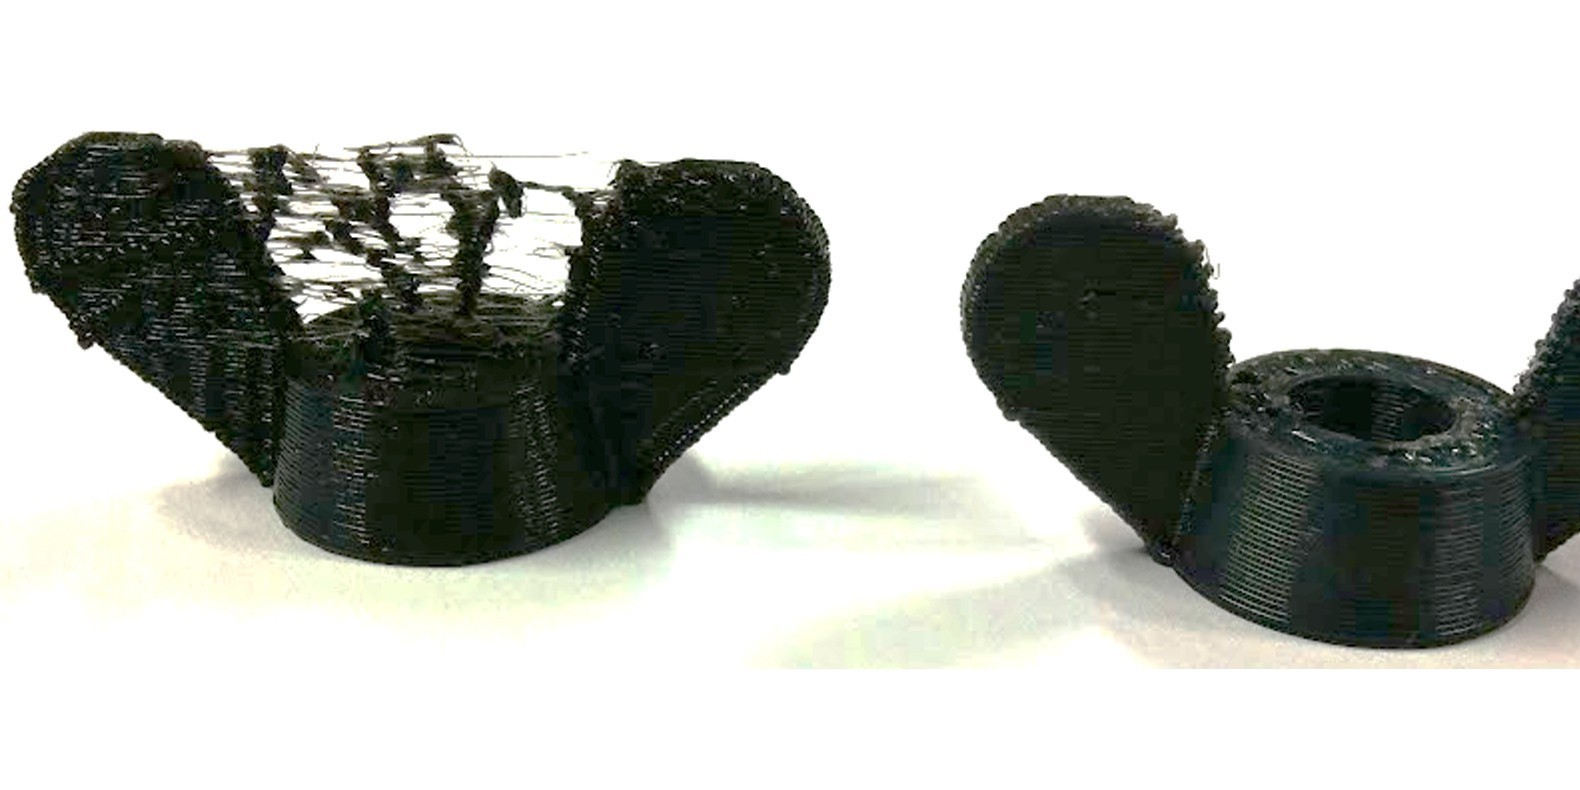Stringing or Oozing: (202, 106, 648, 372)
